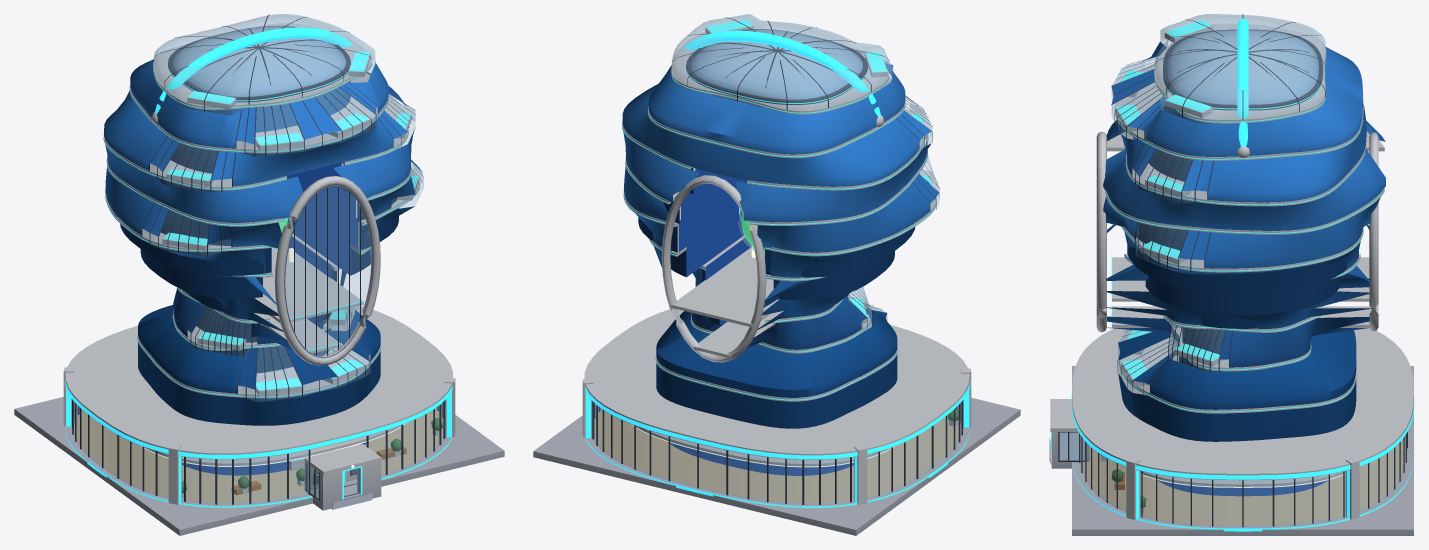
Rendered from habitat_v2_airlock_framed_a6381a77.glb.
The picture shows the model from 3 angles, left to right: view 1: azimuth 30°, elevation 25°; view 2: azimuth 150°, elevation 25°; view 3: azimuth 270°, elevation 25°; orthographic projection. The views are drawn at different scales.
Visible parts, largest first — view 1: Hab_Paint, Hab_Glass, Hab_GlassClear, Hab_GlowCyan, Hab_GlowDeep, Hab_GlowAqua; view 2: Hab_Glass, Hab_Paint, Hab_GlassClear, Hab_GlowCyan, Hab_GlowDeep, Hab_GlowAqua; view 3: Hab_Glass, Hab_Paint, Hab_GlassClear, Hab_GlowCyan, Hab_GlowAqua, Hab_GlowDeep.
Part boxes in pixels (left/top/right/bottom): Hab_Paint: left=14, top=14, right=504, bottom=535; Hab_Glass: left=104, top=26, right=421, bottom=425; Hab_GlassClear: left=73, top=14, right=443, bottom=504; Hab_GlowCyan: left=65, top=27, right=452, bottom=507; Hab_GlowDeep: left=182, top=163, right=366, bottom=475; Hab_GlowAqua: left=163, top=51, right=418, bottom=475; Hab_Glass: left=622, top=29, right=938, bottom=428; Hab_Paint: left=533, top=17, right=1020, bottom=535; Hab_GlassClear: left=593, top=14, right=961, bottom=504; Hab_GlowCyan: left=585, top=30, right=970, bottom=507; Hab_GlowDeep: left=670, top=168, right=853, bottom=475; Hab_GlowAqua: left=706, top=19, right=931, bottom=319; Hab_Glass: left=1103, top=30, right=1385, bottom=441; Hab_Paint: left=1049, top=14, right=1413, bottom=535; Hab_GlassClear: left=1059, top=14, right=1405, bottom=526; Hab_GlowCyan: left=1051, top=19, right=1414, bottom=531; Hab_GlowAqua: left=1116, top=20, right=1219, bottom=379; Hab_GlowDeep: left=1133, top=137, right=1328, bottom=496.
Size of the model in its own units: 34.14 by 40.46 by 32.06.
